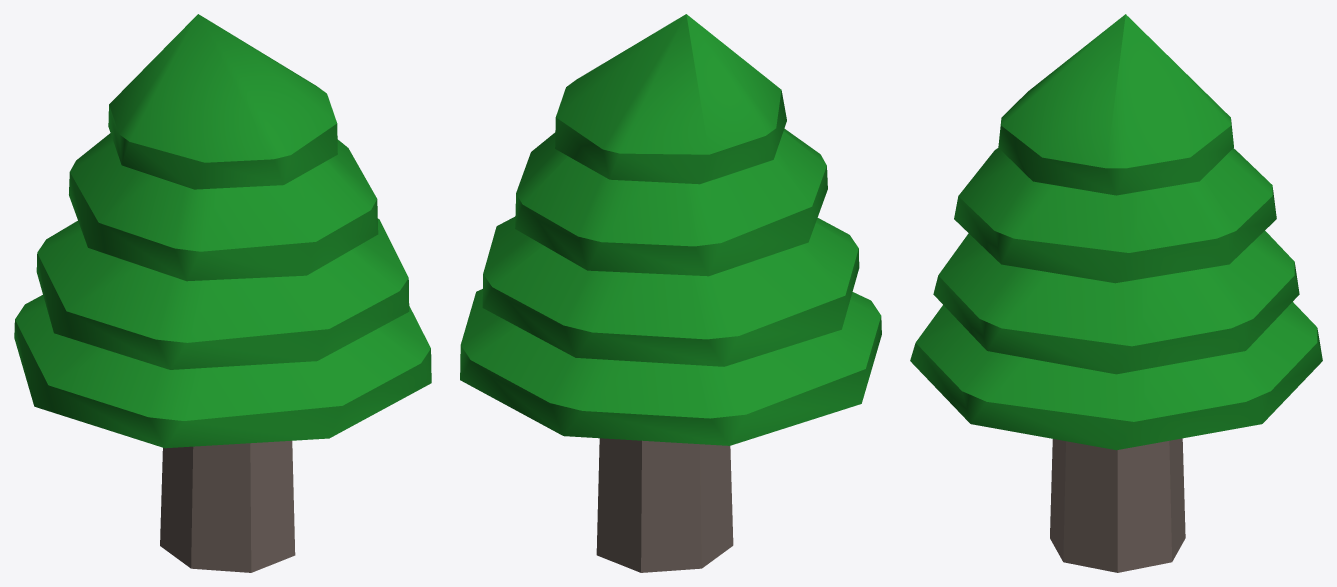
The model's file is tree6.fbx.
The picture shows the model from 3 angles, left to right: view 1: azimuth 30°, elevation 25°; view 2: azimuth 150°, elevation 25°; view 3: azimuth 270°, elevation 25°; orthographic projection. The views are drawn at different scales.
Parts seen in each view (by area): view 1: group5; view 2: group5; view 3: group5.
Boxes of the visible parts, <box> form: group5: <box>14,14,431,572</box>; group5: <box>460,14,881,572</box>; group5: <box>910,14,1322,572</box>.
Bounding box in the file's own units: 51.37 × 69.42 × 50.19.
